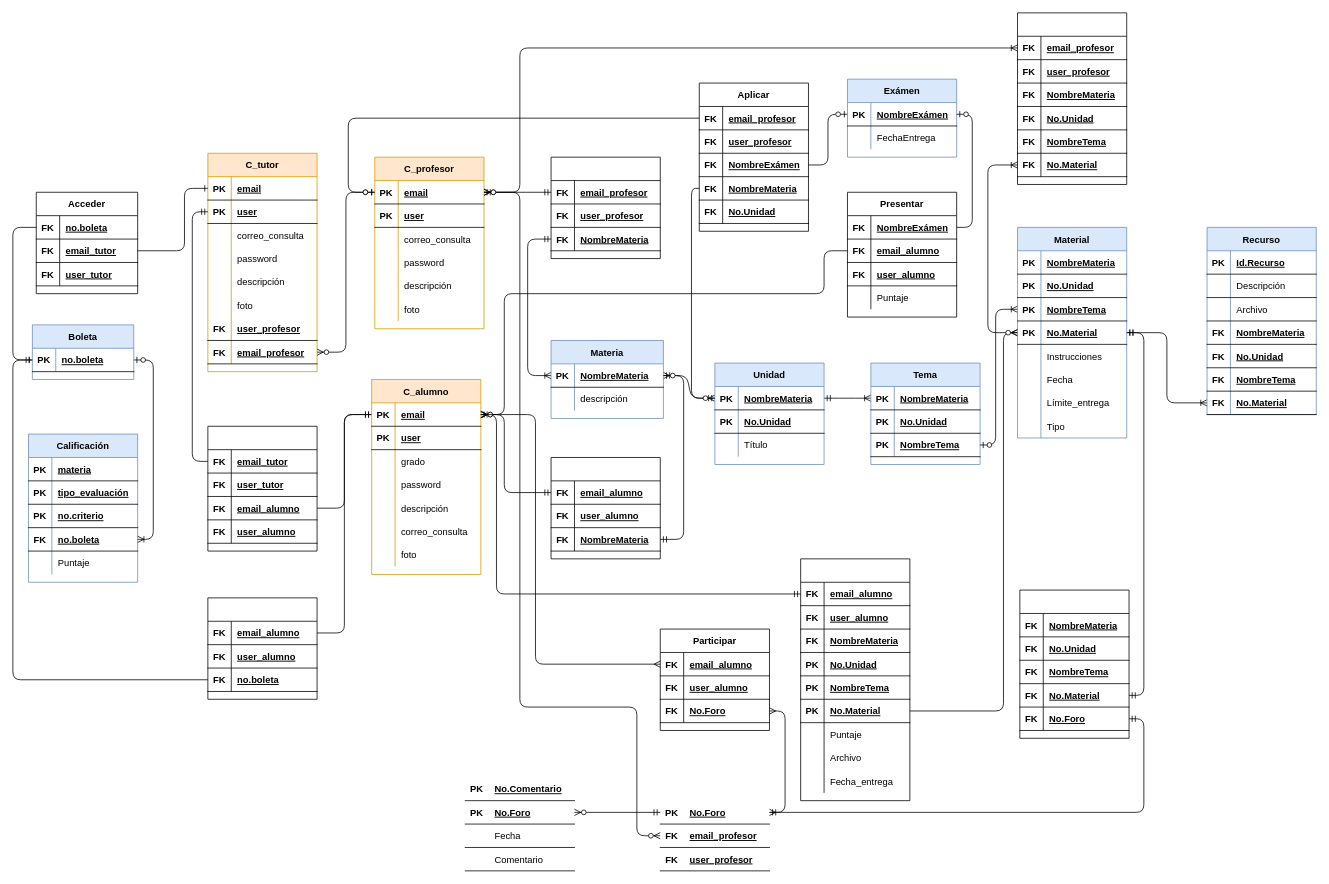
Image size: 1329x884. Some labels were removed from this diagram. Each missing label, with the box of its shape:
Enlazar: (207, 425, 317, 551)
Entregar: (800, 558, 910, 801)
Impartir: (550, 156, 660, 259)
Inscribir: (550, 457, 660, 559)
Poseer: (1019, 589, 1129, 738)
Subir: (1017, 12, 1127, 184)
Tener: (207, 597, 317, 699)
